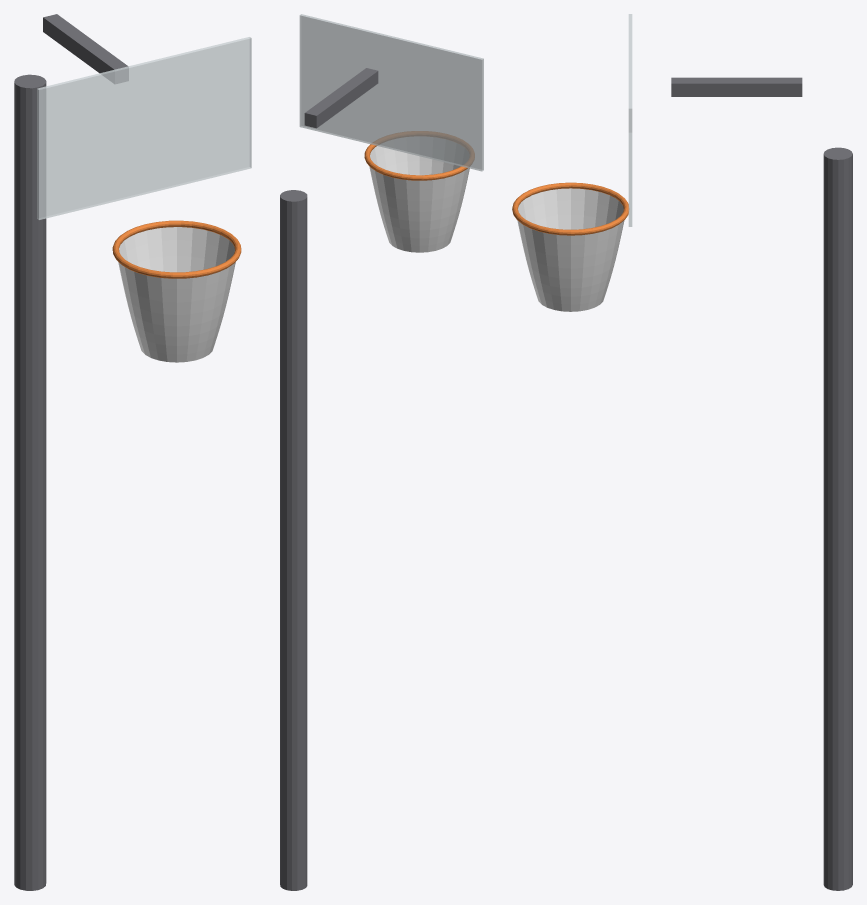
File: Hoop.fbx
3 views of the same model, side by side, from view 1: azimuth 30°, elevation 25°; view 2: azimuth 150°, elevation 25°; view 3: azimuth 270°, elevation 25° (orthographic). The views are drawn at different scales.
Parts seen in each view (by area): view 1: Backboard, Pole, Net, Arm, Rim; view 2: Pole, Backboard, Net, Arm, Rim; view 3: Pole, Net, Arm, Rim, Backboard.
Part boxes in pixels (left/top/right/bottom): Backboard: left=37, top=37, right=251, bottom=219; Pole: left=14, top=74, right=46, bottom=890; Net: left=118, top=227, right=235, bottom=362; Arm: left=43, top=14, right=128, bottom=83; Rim: left=112, top=220, right=241, bottom=278; Pole: left=280, top=190, right=307, bottom=890; Backboard: left=299, top=14, right=483, bottom=171; Net: left=369, top=137, right=469, bottom=252; Arm: left=304, top=68, right=378, bottom=128; Rim: left=364, top=131, right=474, bottom=180; Pole: left=823, top=147, right=852, bottom=890; Net: left=517, top=188, right=624, bottom=311; Arm: left=671, top=77, right=802, bottom=96; Rim: left=512, top=182, right=628, bottom=235; Backboard: left=628, top=14, right=632, bottom=226.
Bounding box in the file's own units: 0.915 × 3.72 × 1.39.
